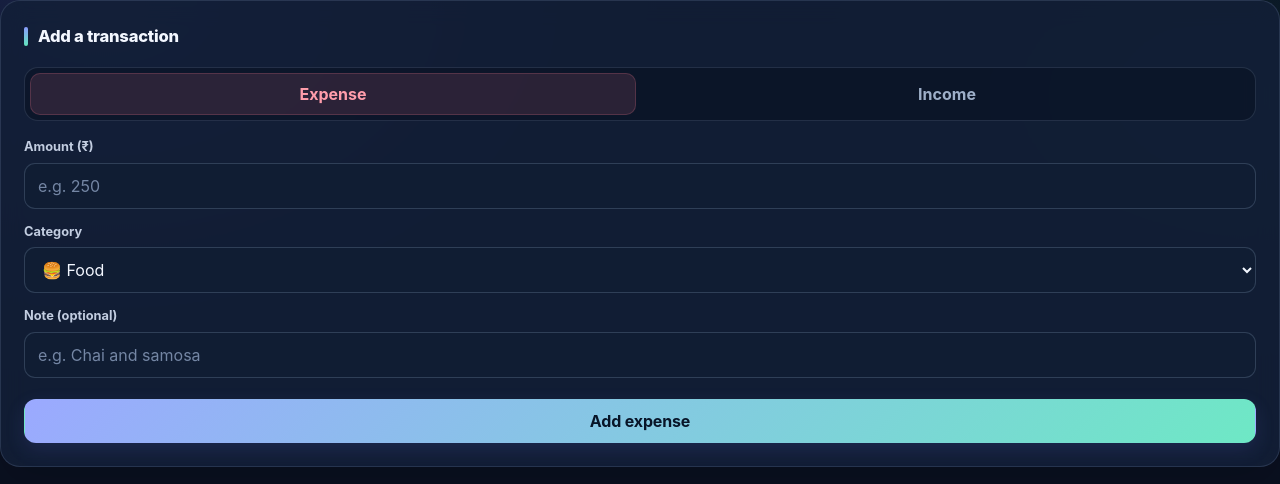
Test: AddTransaction › switches to income and reports the pressed state
The width and height of the screenshot is (1280, 484).
Step 1. Click the button "Income" → (947, 94), box 644,73 -> 1250,115
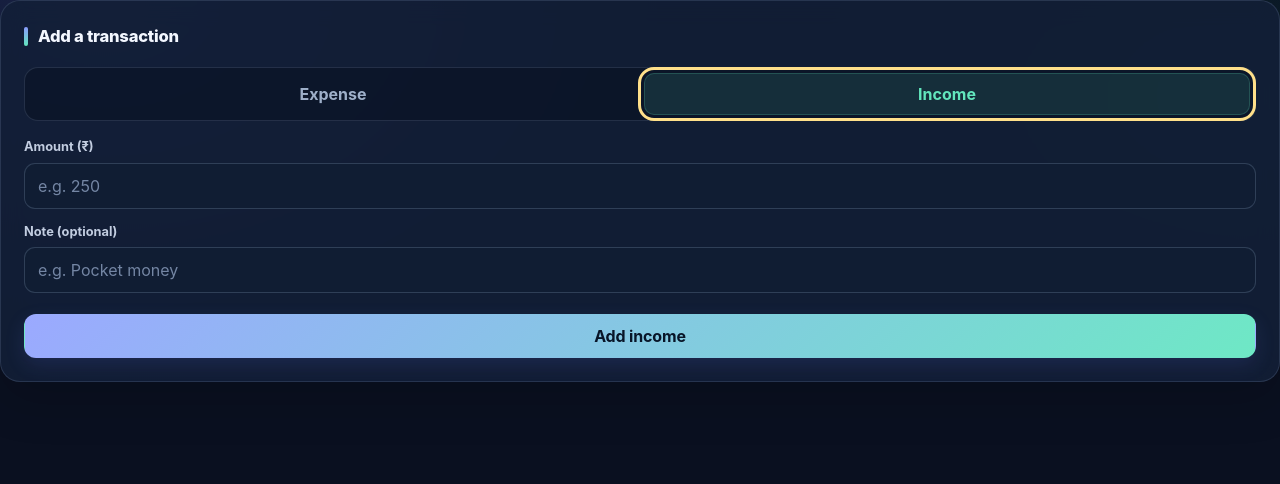
Check: the button "Add income" is shown, box 24,314 -> 1256,358
